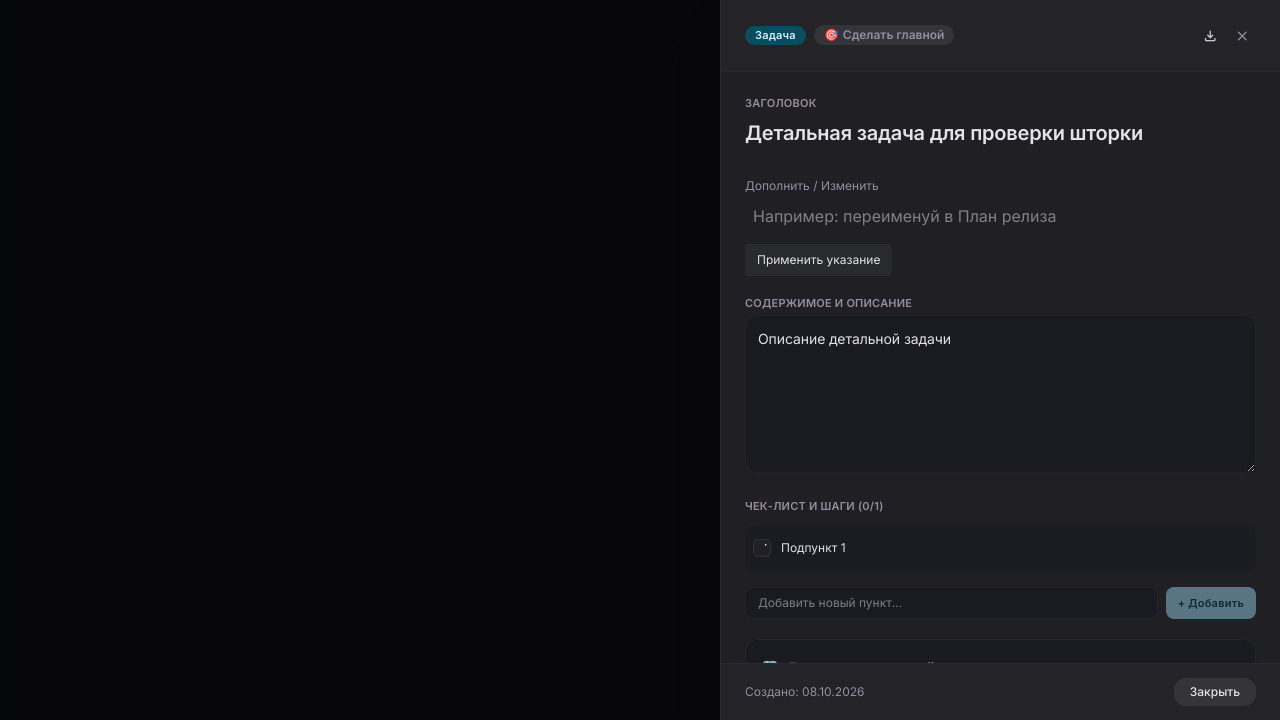
Test case: SlideOverDrawer - Task Details, Tags & Reminders (TASK-37) › toggles focus state when target button is clicked
Click the text "Сделать главной".
click(894, 35)  # box [843,27,944,43]
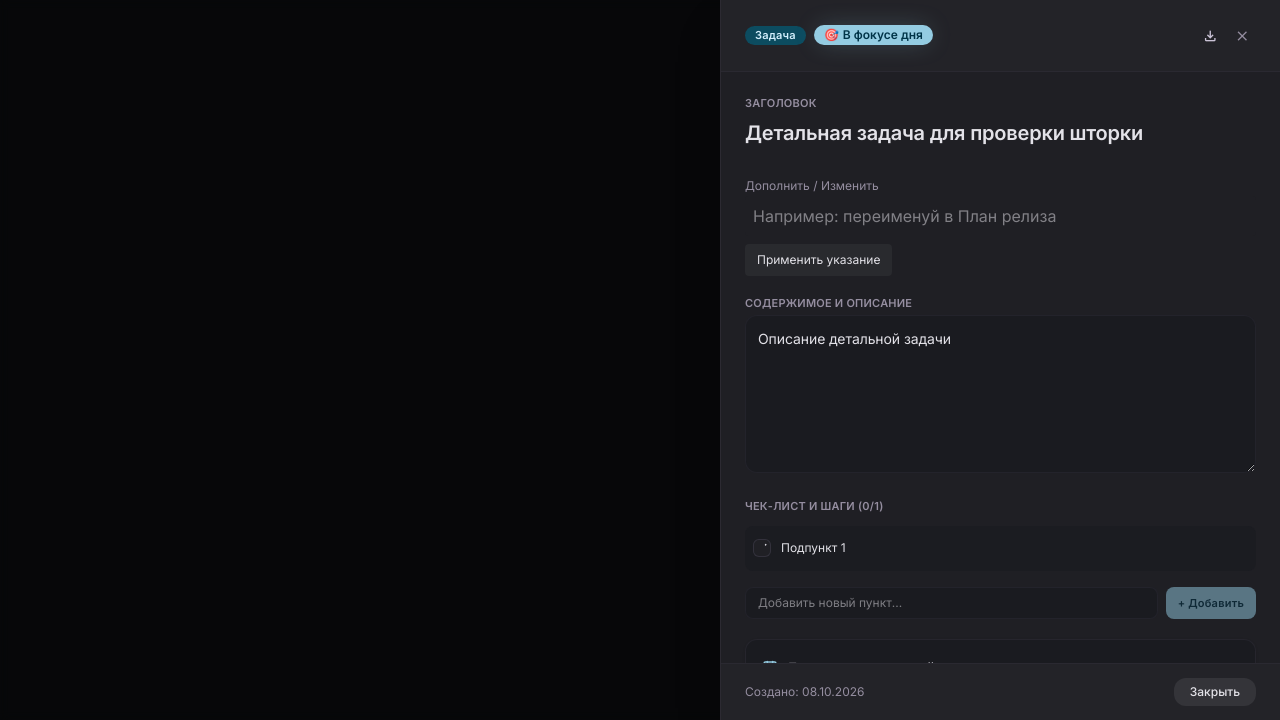
Check: the text "В фокусе дня" is shown, box [843,27,923,43]
